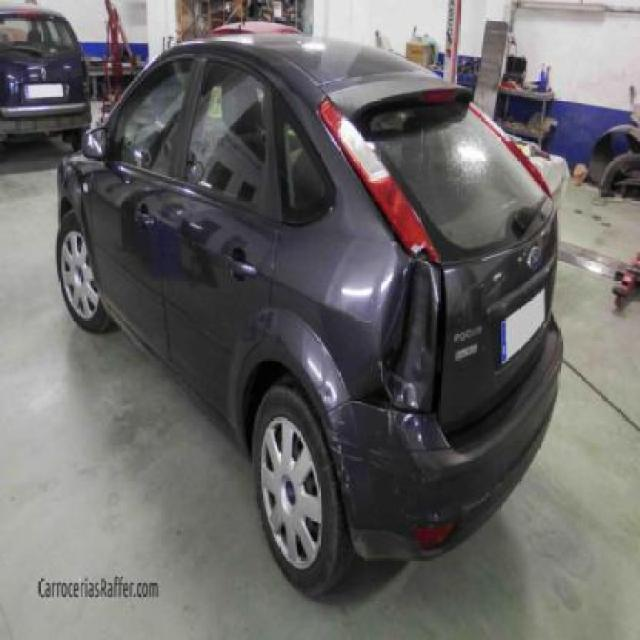rear-bumper-dent: (370, 247, 450, 420)
